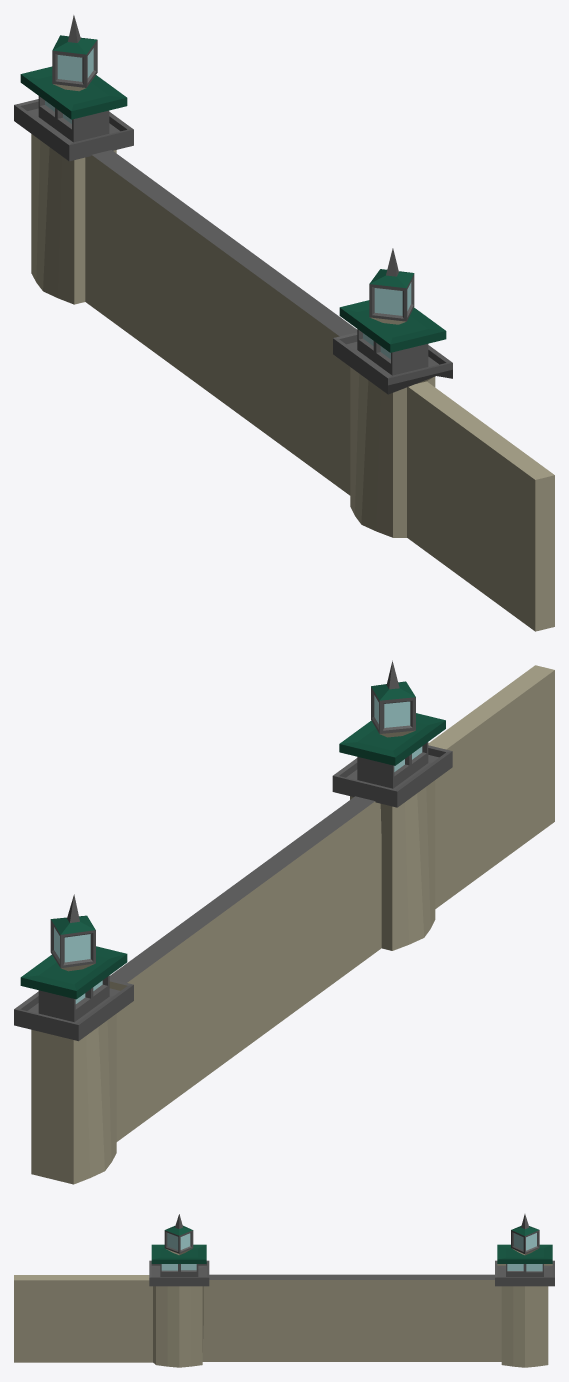
Rendered from wallpart1.fbx.
3 views of the same model, one above another, from view 1: azimuth 30°, elevation 25°; view 2: azimuth 150°, elevation 25°; view 3: azimuth 270°, elevation 25° (orthographic). The views are drawn at different scales.
Parts seen in each view (by area): view 1: Cube; view 2: Cube; view 3: Cube.
Part boxes in pixels (left/top/right/bottom): Cube: left=14, top=15, right=554, bottom=631; Cube: left=14, top=660, right=554, bottom=1184; Cube: left=14, top=1214, right=554, bottom=1367.
Bounding box in the file's own units: 745 × 2960 × 9897.
